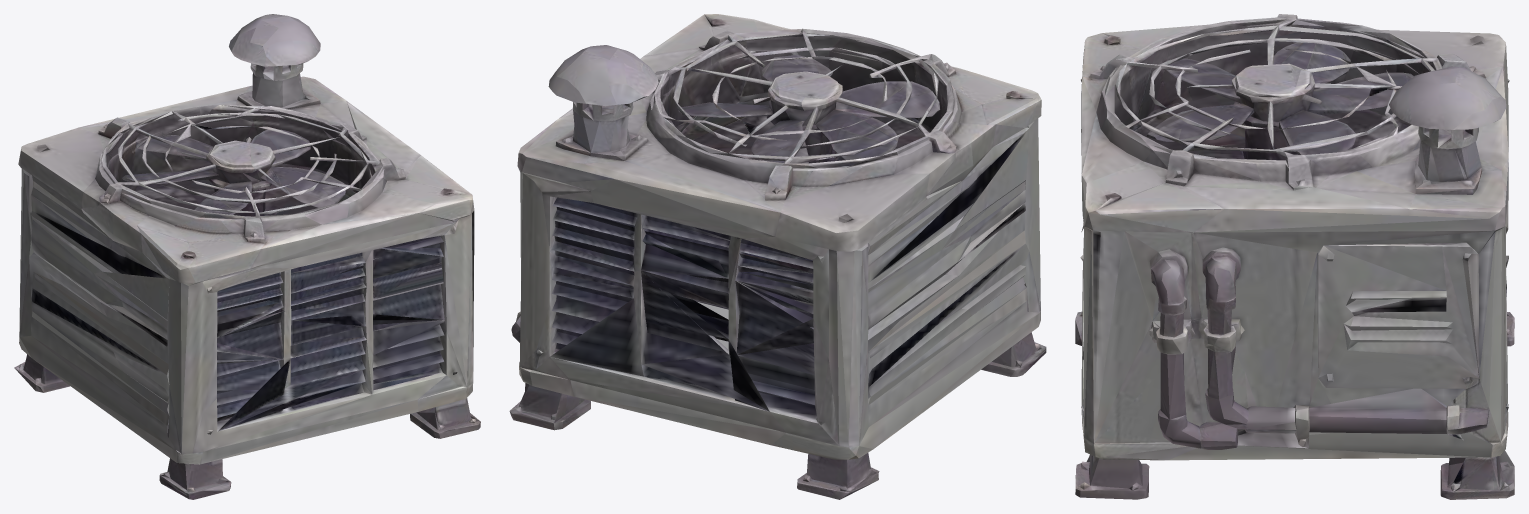
File: prop_vent.glb
3 views of the same model, side by side, from view 1: azimuth 30°, elevation 25°; view 2: azimuth 150°, elevation 25°; view 3: azimuth 270°, elevation 25° (orthographic). The views are drawn at different scales.
Bounding box in the file's own units: 1.89 × 1.74 × 1.78.
Materials: 1 (1 with a texture image).
